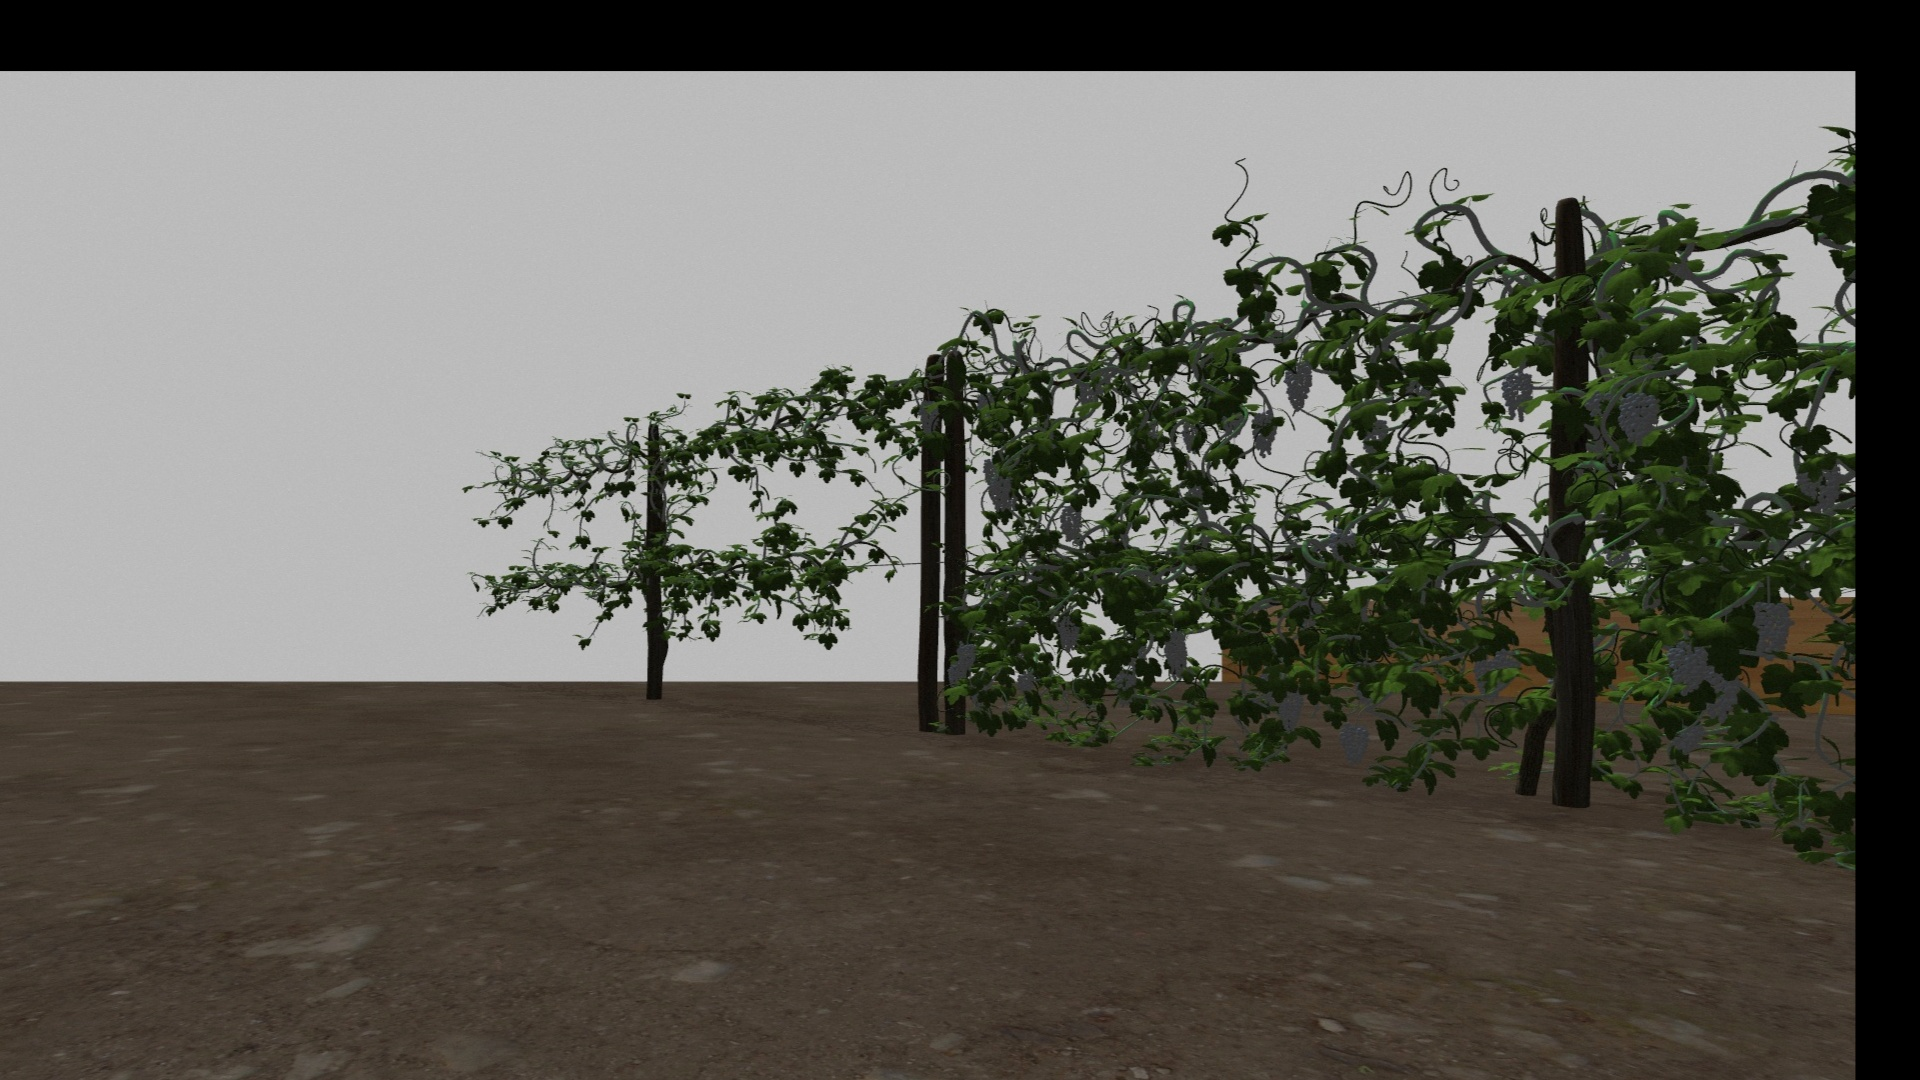grape: (1665, 637, 1709, 696), (1751, 600, 1792, 662), (1797, 460, 1844, 514), (1615, 390, 1662, 440), (1706, 670, 1741, 724), (1274, 682, 1305, 735), (1501, 371, 1534, 421), (981, 459, 1011, 510), (1282, 363, 1313, 410), (1338, 723, 1370, 765), (1251, 411, 1278, 459), (1491, 651, 1519, 694), (1164, 634, 1188, 678), (1059, 504, 1083, 542), (1055, 618, 1081, 651), (1113, 670, 1135, 707), (919, 400, 939, 436), (1182, 421, 1200, 454), (1473, 662, 1491, 692), (1015, 670, 1036, 695), (957, 644, 976, 670), (947, 662, 967, 684)
